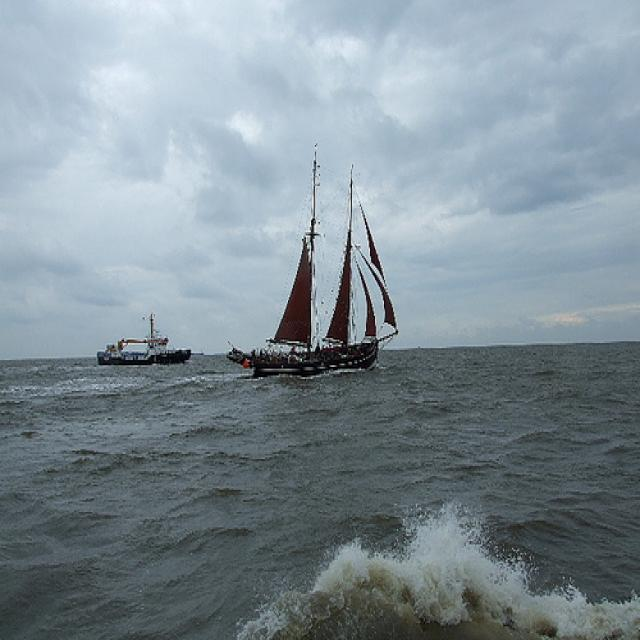Ship: (234, 148, 397, 386)
